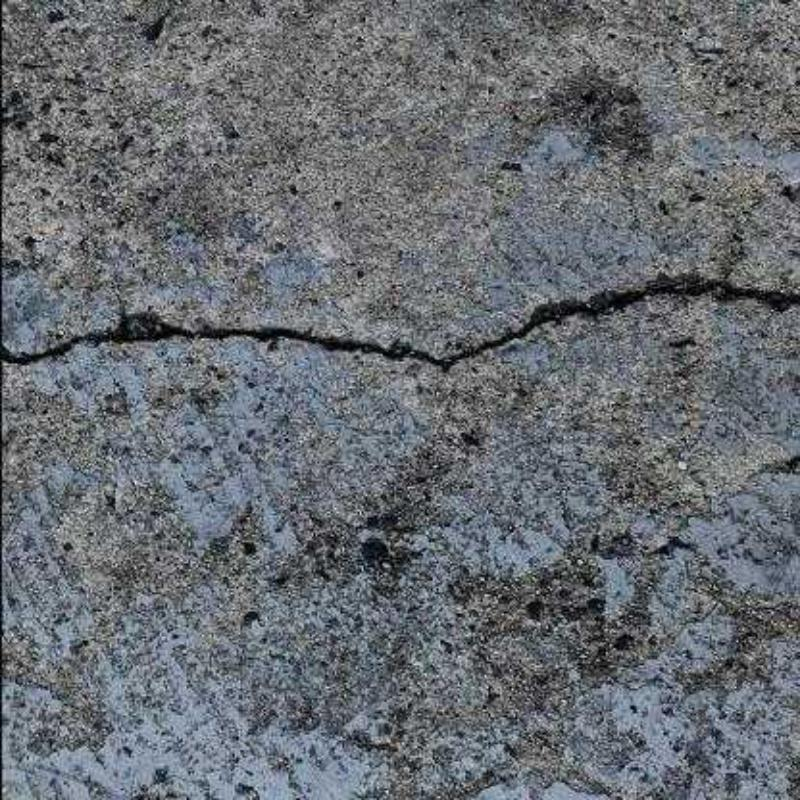pothole: (2, 286, 798, 365)
